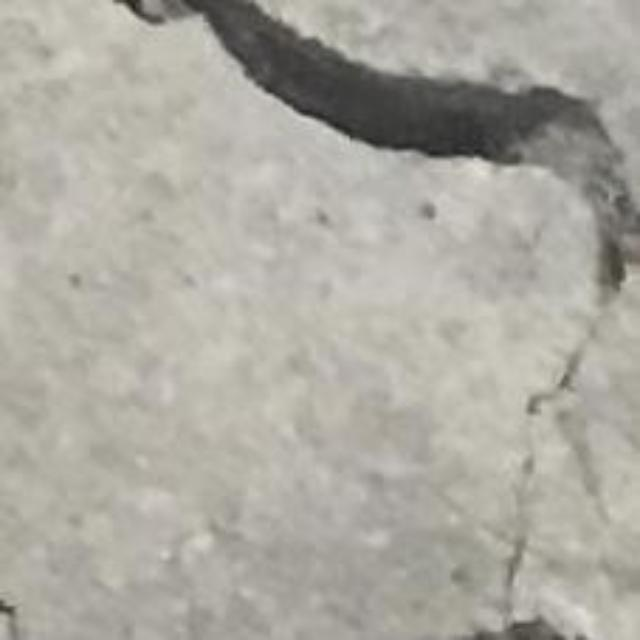crack: (122, 0, 639, 307)
